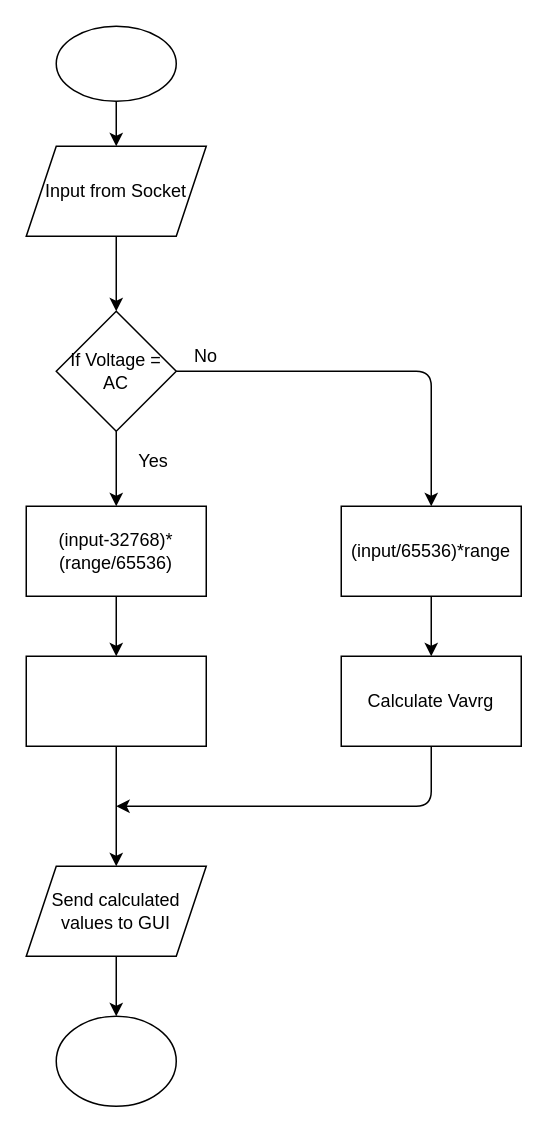
This 548x1133 diagram has some shape labels left out. Here are the shapes that lost their labels. From the top down, the centre of each, then its label:
(115,63): START
(115,700): Calculate Vrms & Vmax
(115,1060): END
